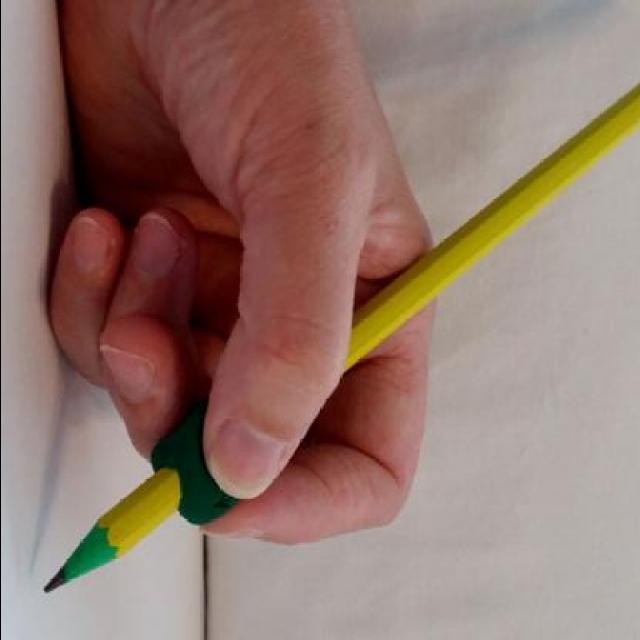Pencil: (30, 513, 134, 607)
